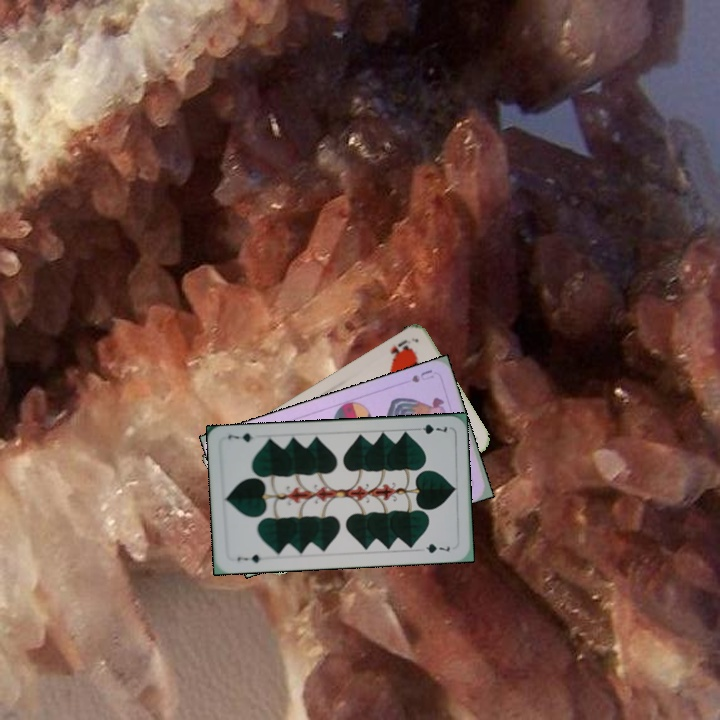G7: (410, 420, 450, 437), (233, 550, 264, 565)
HO: (387, 336, 414, 362)
SU: (407, 365, 437, 385)
